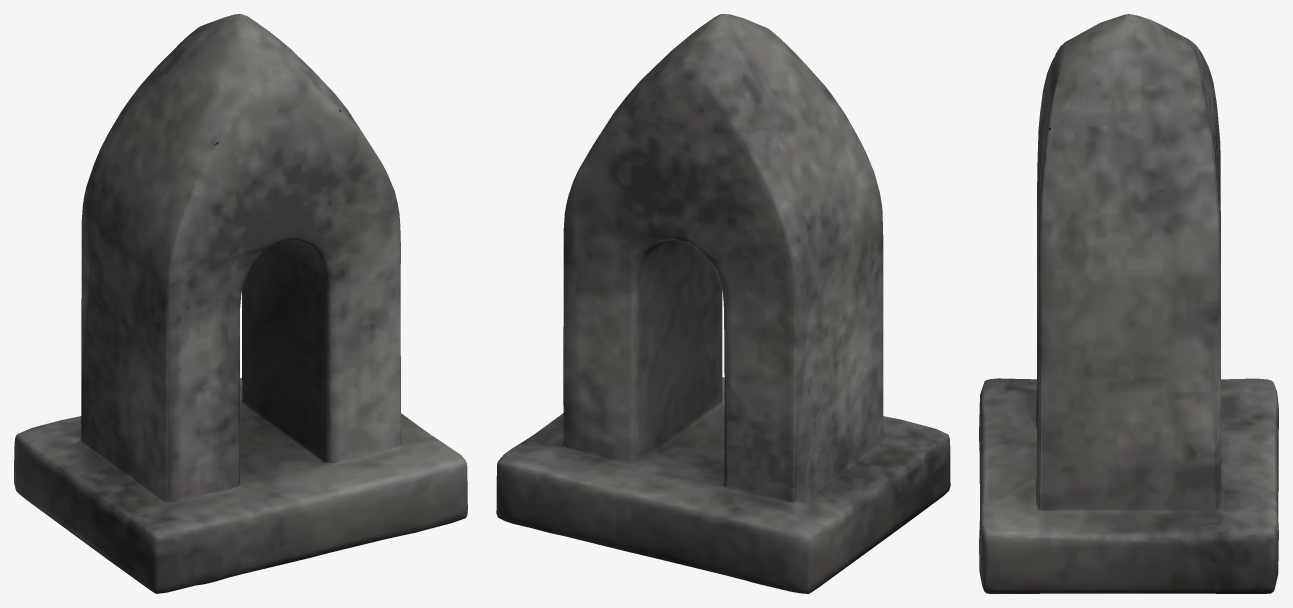
The model's file is simple-granite-shrine-v001.glb.
The picture shows the model from 3 angles, left to right: view 1: azimuth 30°, elevation 25°; view 2: azimuth 150°, elevation 25°; view 3: azimuth 270°, elevation 25°; orthographic projection. The views are drawn at different scales.
Parts seen in each view (by area): view 1: simple-granite-shrine; view 2: simple-granite-shrine; view 3: simple-granite-shrine.
Boxes of the visible parts, <box> form: simple-granite-shrine: <box>14,14,467,593</box>; simple-granite-shrine: <box>496,14,950,593</box>; simple-granite-shrine: <box>979,14,1278,593</box>.
Size of the model in its own units: 0.5741 by 0.8496 by 0.459.
Materials: 1 (1 with a texture image).
